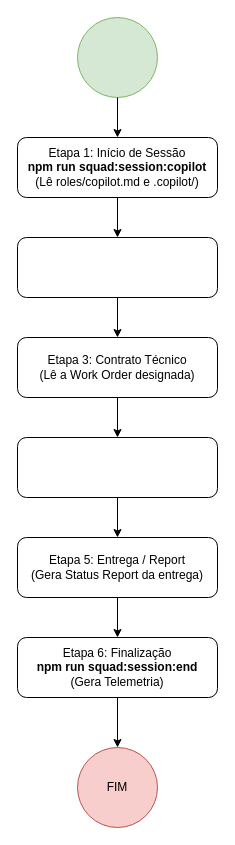
Some shapes in this 235 by 845 pixel diagram are drawn without their labels. The shapes that lost their labels are listed below. From the top down, each one's centre as x and y in pixels, then its label:
At pixel 117 57: "INÍCIO".
At pixel 117 267: "Etapa 2: Ingestão de Tarefa Comando: inbox (Lê inbox-copilot.md)".
At pixel 117 467: "Etapa 4: Implementação (Executa código e testes)".
